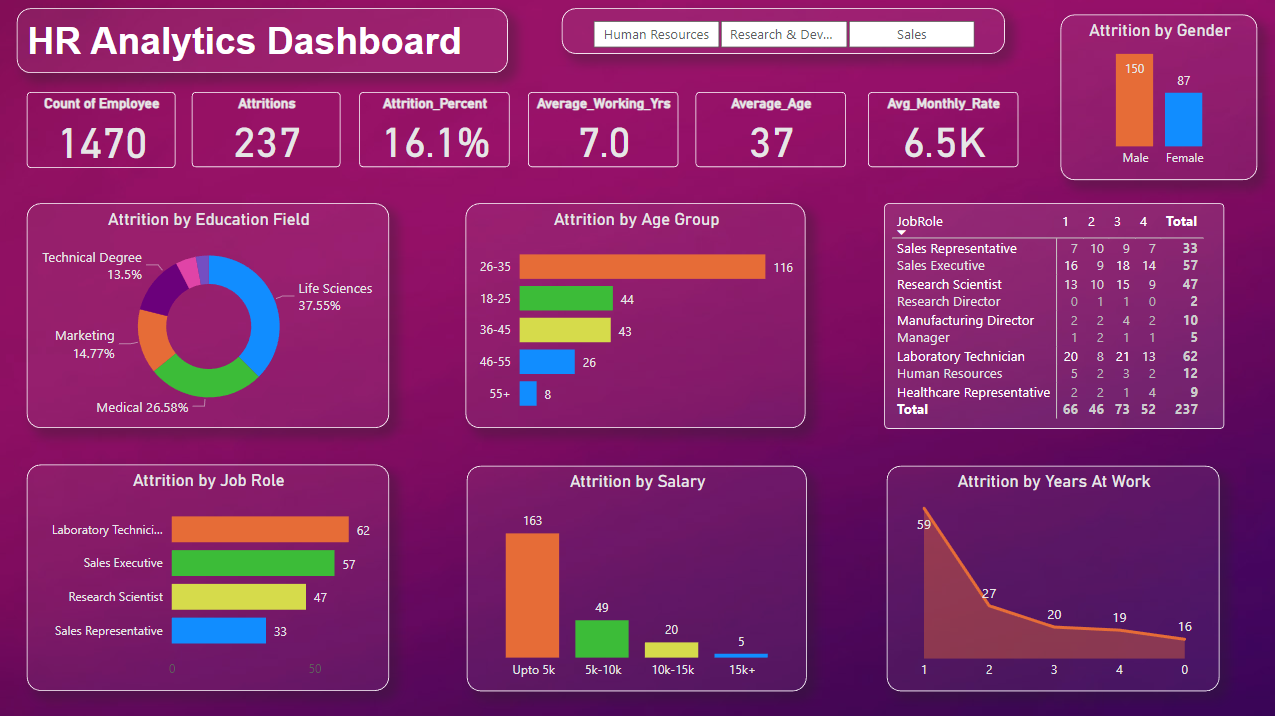

What the dashboard file says about the page in this screenshot:
{"tool":"powerbi","page":{"name":"Page 1","canvas":[1280,720],"ordinal":0},"visuals":[{"type":"card","title":"Average_Working_Yrs","fields":{"Values":["Avg(HR_Analytics_data.YearsAtCompany)"]},"box":[530,95.3,150,75],"z":0},{"type":"card","title":"Count of Employee","fields":{"Values":["CountNonNull(HR_Analytics_data.EmpID)"]},"box":[28.7,95.3,148.8,76.2],"z":1000},{"type":"card","title":"Attrition_Percent","fields":{"Values":["HR_Analytics_data.AttritionRate"]},"box":[361.2,95.3,150,75],"z":2000},{"type":"card","title":"Attritions","fields":{"Values":["Sum(HR_Analytics_data.Attrition_count)"]},"box":[193.7,95.3,148.8,75],"z":3000},{"type":"card","title":"Average_Age","fields":{"Values":["Avg(HR_Analytics_data.Age)"]},"box":[697.5,95.3,150,75],"z":4000},{"type":"card","title":"Avg_Monthly_Rate","fields":{"Values":["Avg(HR_Analytics_data.MonthlyIncome)"]},"box":[870,95.3,150,75],"z":5000},{"type":"donutChart","title":"Attrition by Education Field","fields":{"Category":["HR_Analytics_data.EducationField"],"Y":["Sum(HR_Analytics_data.Attrition_count)"]},"box":[35.7,205.7,355.7,225.7],"z":6000},{"type":"clusteredBarChart","title":"Attrition by Age Group ","fields":{"Category":["HR_Analytics_data.AgeGroup"],"Y":["Sum(HR_Analytics_data.Attrition_count)"]},"box":[471.4,205.7,337.1,225.7],"z":7000},{"type":"pivotTable","fields":{"Rows":["HR_Analytics_data.JobRole"],"Columns":["HR_Analytics_data.JobSatisfaction"],"Values":["Sum(HR_Analytics_data.Attrition_count)"]},"box":[885.7,205.7,340,225.7],"z":8000},{"type":"columnChart","title":"Attrition by Gender","fields":{"Y":["Sum(HR_Analytics_data.Attrition_count)"],"Category":["HR_Analytics_data.Gender"]},"box":[1062.9,17.1,197.1,165.7],"z":9000},{"type":"columnChart","title":"Attrition by Salary ","fields":{"Y":["Sum(HR_Analytics_data.Attrition_count)"],"Category":["HR_Analytics_data.SalarySlab"]},"box":[468.6,468.6,340,225.7],"z":10000},{"type":"clusteredBarChart","title":"Attrition by Job Role","fields":{"Category":["HR_Analytics_data.JobRole"],"Y":["Sum(HR_Analytics_data.Attrition_count)"]},"box":[18.6,468.6,372.9,225.7],"z":11000},{"type":"areaChart","title":"Attrition by Years At Work ","fields":{"Category":["HR_Analytics_data.YearsAtCompany"],"Y":["Sum(HR_Analytics_data.Attrition_count)"]},"box":[888.6,468.6,332.9,225.7],"z":12000},{"type":"slicer","fields":{"Values":["HR_Analytics_data.Department"]},"box":[564.3,11.4,442.9,45.7],"z":13000},{"type":"textbox","box":[18.6,11.4,442.9,64.3],"z":14000}]}

Visuals, with their boxes in screenshot pixels (x1, y1, x2, y2), scaled from the page's 1280x720 canvas onto the 1275x716 screenshot:
"Average_Working_Yrs" card: box(528, 95, 677, 169)
"Count of Employee" card: box(29, 95, 177, 171)
"Attrition_Percent" card: box(360, 95, 509, 169)
"Attritions" card: box(193, 95, 341, 169)
"Average_Age" card: box(695, 95, 844, 169)
"Avg_Monthly_Rate" card: box(867, 95, 1016, 169)
"Attrition by Education Field" donutChart: box(36, 205, 390, 429)
"Attrition by Age Group " clusteredBarChart: box(470, 205, 805, 429)
pivotTable - HR_Analytics_data.JobRole x HR_Analytics_data.JobSatisfaction: box(882, 205, 1221, 429)
"Attrition by Gender" columnChart: box(1059, 17, 1255, 182)
"Attrition by Salary " columnChart: box(467, 466, 805, 690)
"Attrition by Job Role" clusteredBarChart: box(19, 466, 390, 690)
"Attrition by Years At Work " areaChart: box(885, 466, 1217, 690)
slicer - HR_Analytics_data.Department: box(562, 11, 1003, 57)
textbox: box(19, 11, 460, 75)
